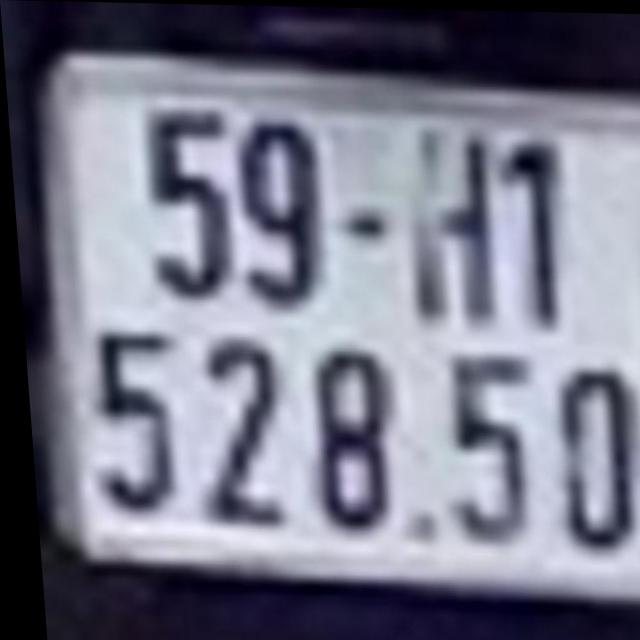0: (551, 353, 631, 557)
1: (497, 121, 567, 329)
2: (187, 327, 285, 525)
5: (439, 344, 534, 539), (135, 99, 227, 294), (90, 323, 169, 519)
8: (308, 343, 392, 531)
9: (232, 109, 317, 303)
H: (391, 114, 501, 319)
